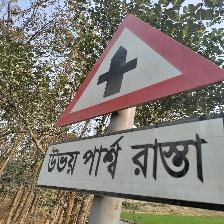Crossroad: (33, 9, 224, 213)
